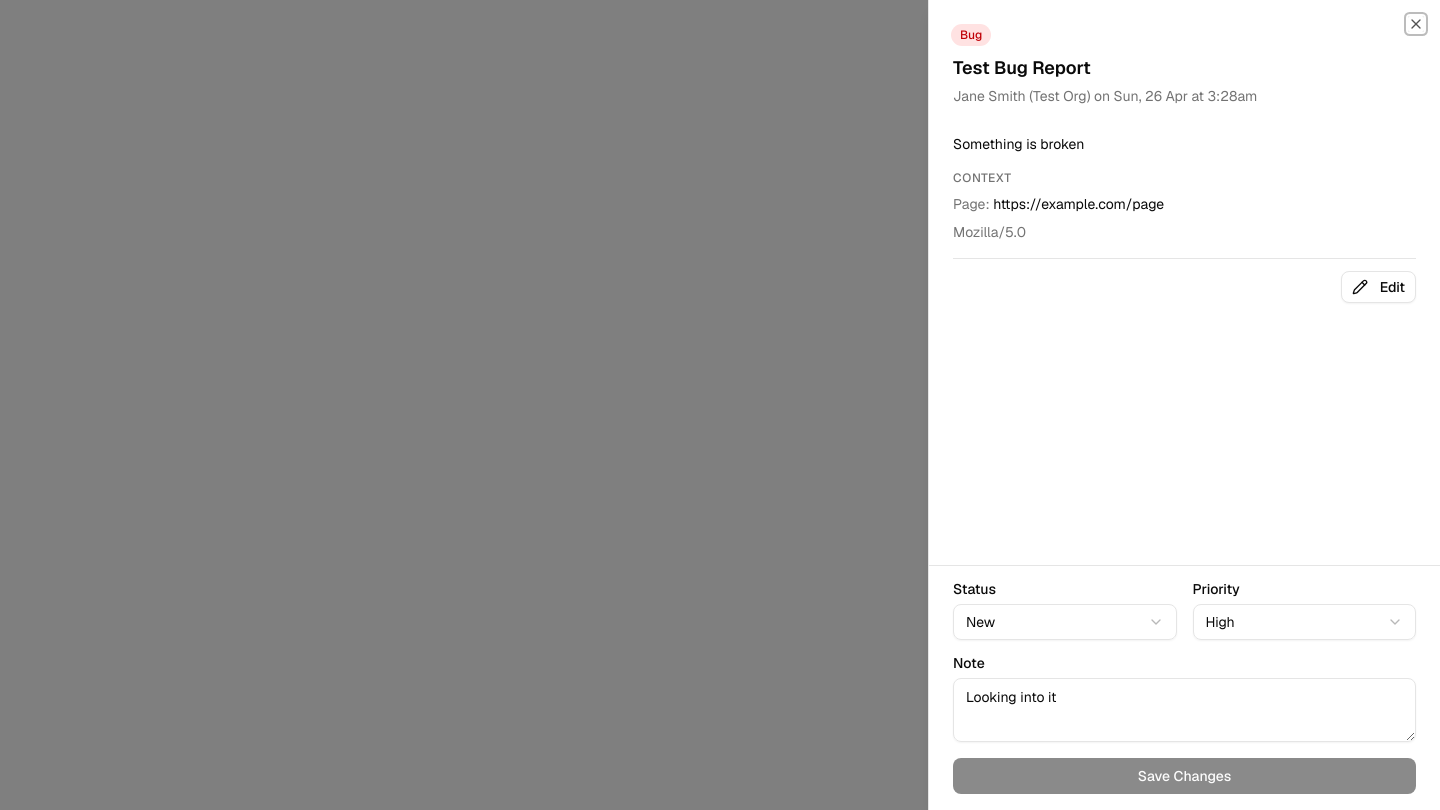
it: SupportSlideout › enters edit mode when Edit button is clicked
The width and height of the screenshot is (1440, 810).
Click the button "Edit" at (1378, 287), box [1341,271,1416,303]
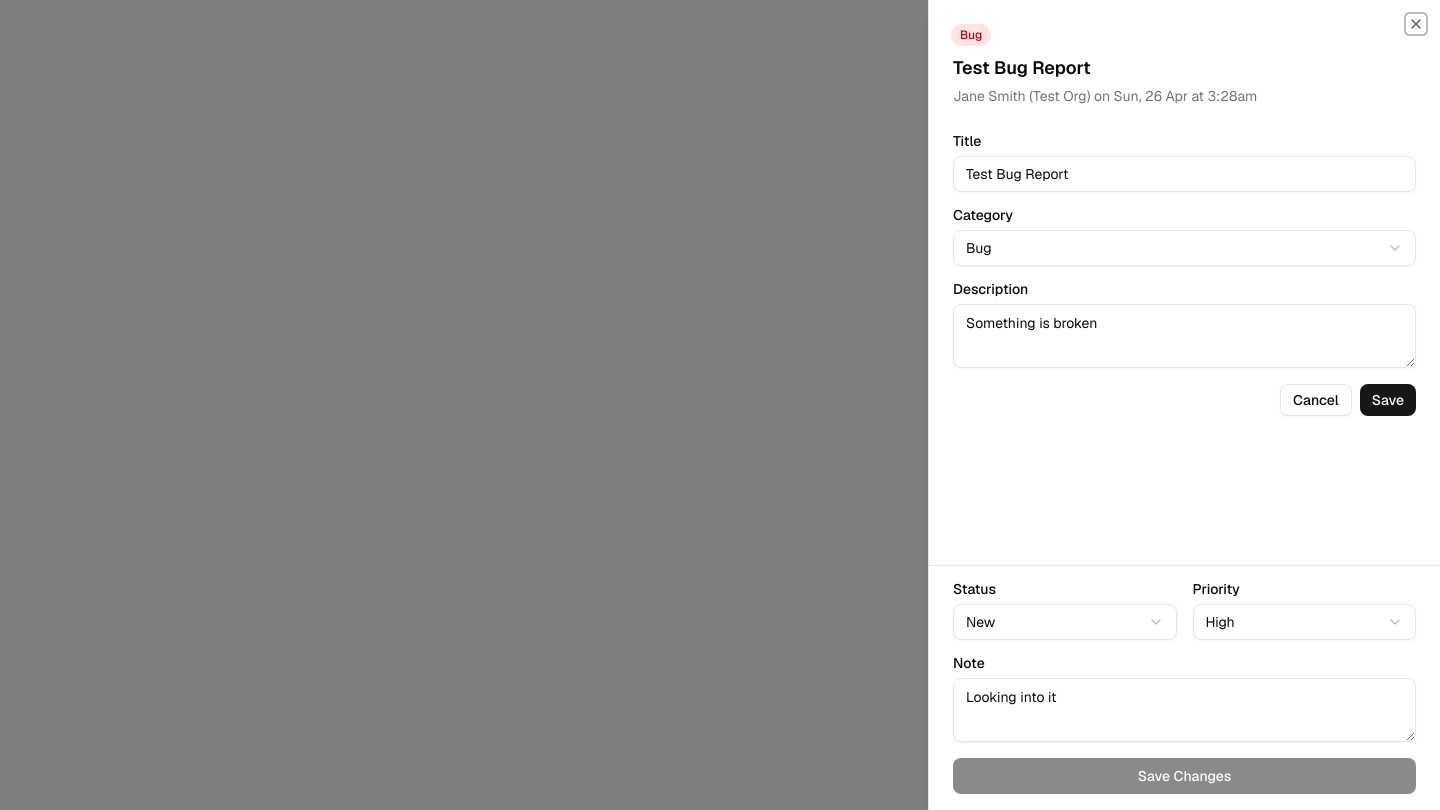
Result: the field labelled "Title" holds "Test Bug Report" at [953,156,1416,192]
Result: the text box labelled "Description" holds "Something is broken" at [953,304,1416,368]
Result: the button "Cancel" is shown at [1280,384,1352,416]
